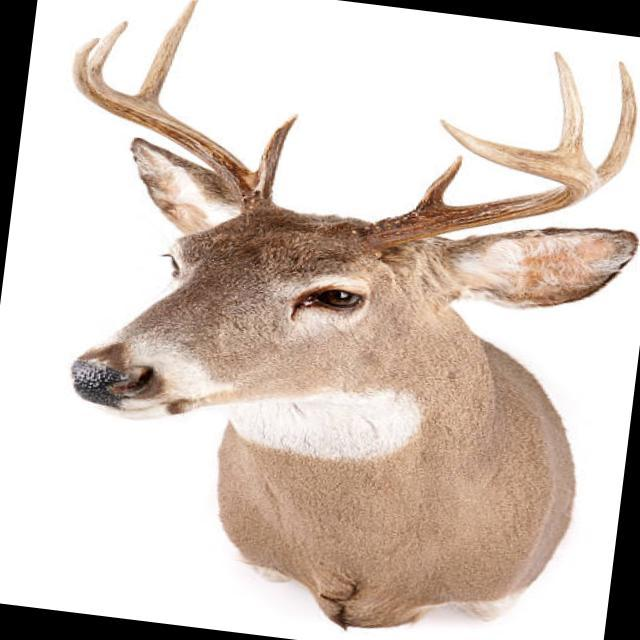L-F: (366, 118, 598, 247)
L-G1: (419, 153, 464, 203)
L-G2: (596, 59, 639, 188)
L-G3: (553, 51, 584, 151)
R-F: (71, 36, 269, 206)
R-G1: (255, 111, 301, 181)
R-G2: (135, 0, 199, 103)
R-G4: (90, 20, 128, 76)
